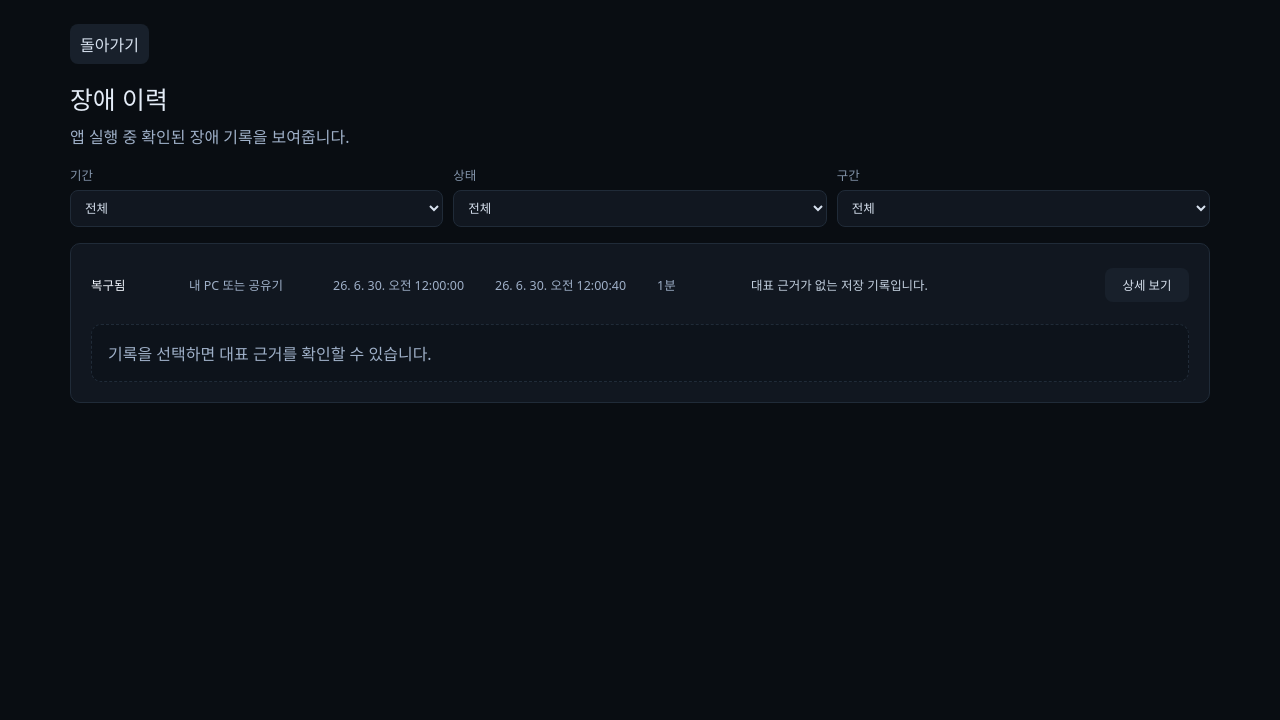
Test: NetworkIncidentHistoryPage › shows an empty evidence message when the selected incident has no representative evidence
The image size is (1280, 720).
Click the button "상세 보기" at (1147, 285), box [1105,268,1189,302]
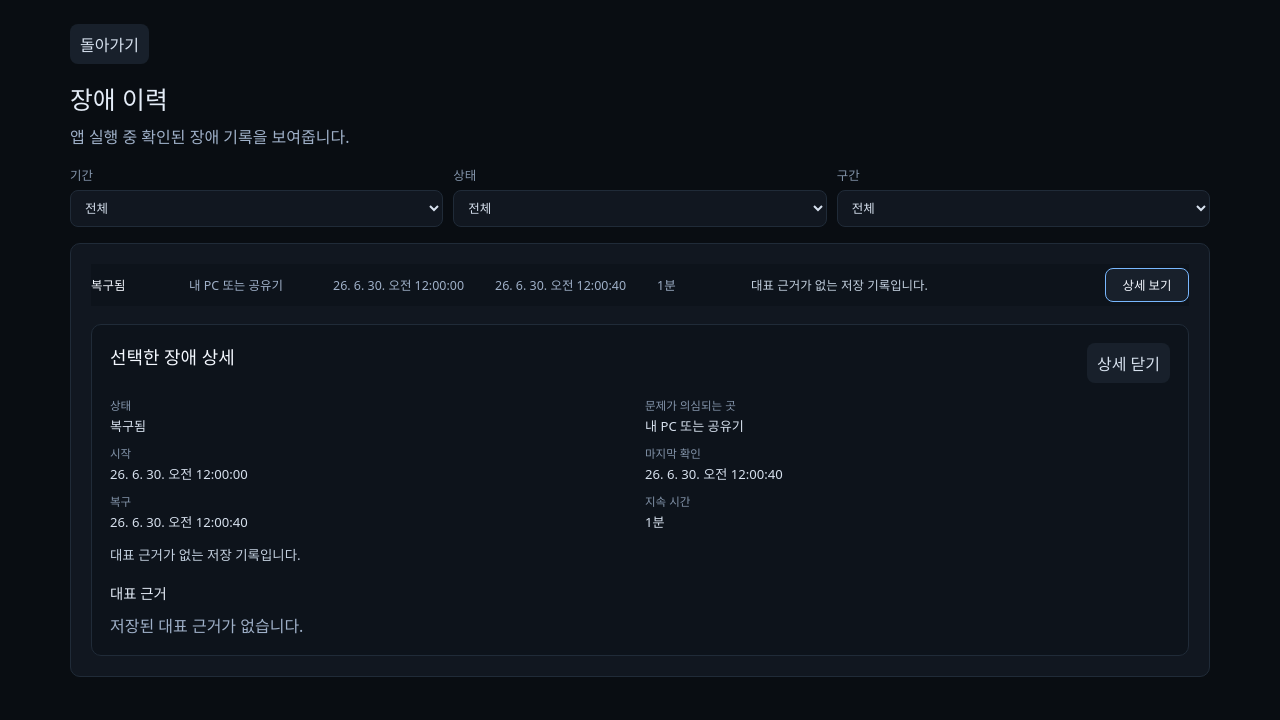
Now the text "저장된 대표 근거가 없습니다." is shown, box [110,615,303,637]
